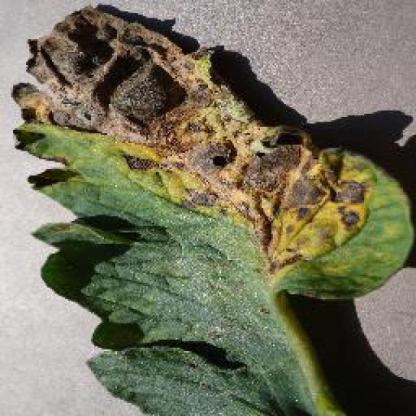Tomato_Blight: (24, 24, 400, 416)
